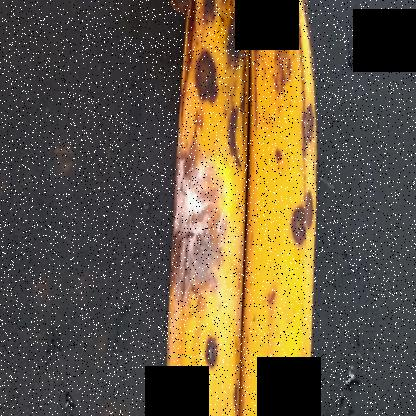ripe: (248, 0, 340, 415)
rotten: (154, 0, 249, 415)
